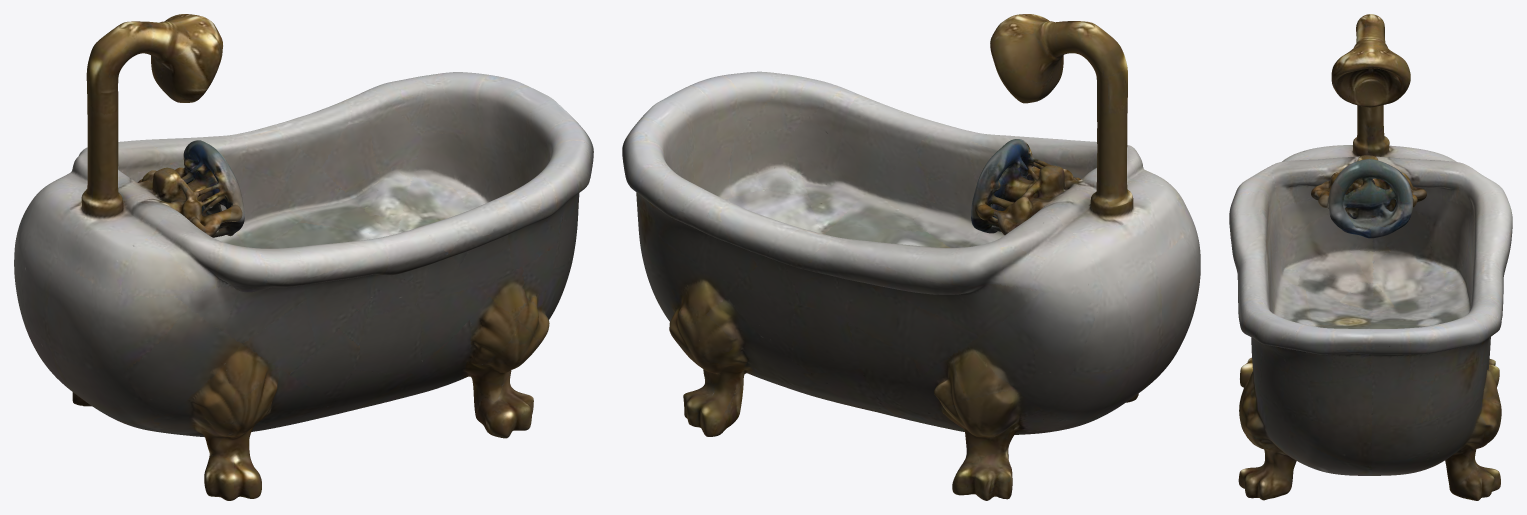
The model's file is Meshy_AI_Gilded_Bath_0330161619_texture.glb.
The picture shows the model from 3 angles, left to right: view 1: azimuth 30°, elevation 25°; view 2: azimuth 150°, elevation 25°; view 3: azimuth 270°, elevation 25°; orthographic projection. The views are drawn at different scales.
Size of the model in its own units: 2.01 by 1.62 by 1.18.
Materials: 1 (1 with a texture image).
